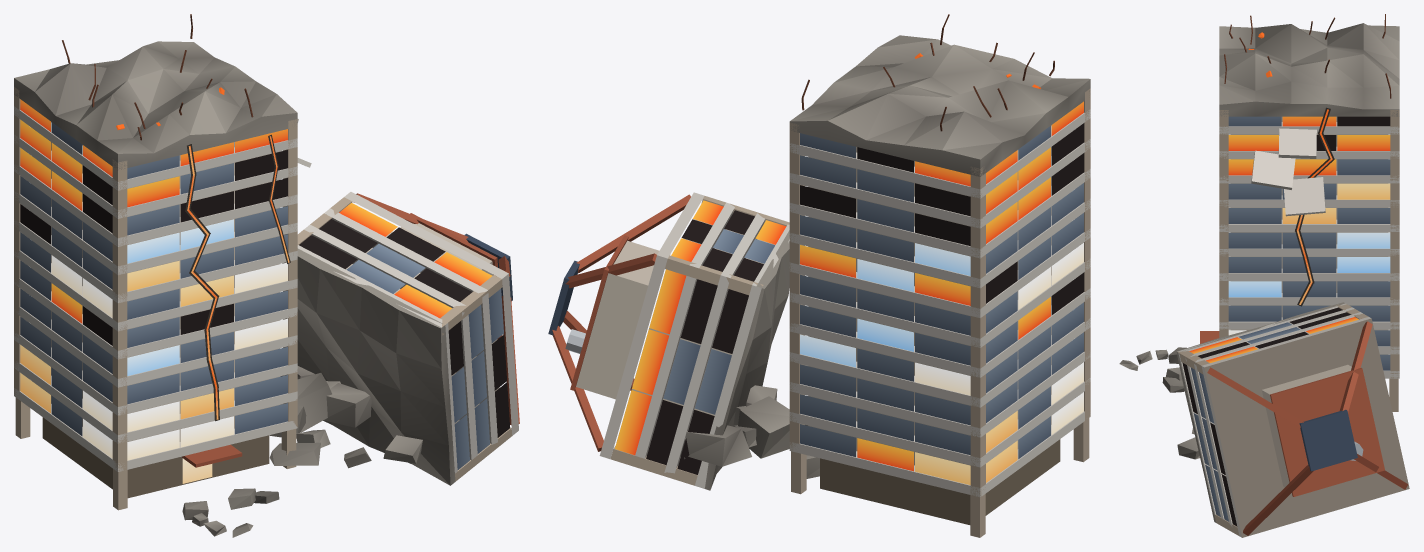
Rendered from bld_apt_C_collapsed.meshopt.glb.
3 renders of one model, left to right at view 1: azimuth 30°, elevation 25°; view 2: azimuth 150°, elevation 25°; view 3: azimuth 270°, elevation 25°, orthographic. The views are drawn at different scales.
Visible parts, largest first — view 1: bld_apt_C_collapsed; view 2: bld_apt_C_collapsed; view 3: bld_apt_C_collapsed.
Part boxes in pixels (box(x1,y1,x2,y2)): bld_apt_C_collapsed: box(14, 14, 519, 537); bld_apt_C_collapsed: box(548, 14, 1090, 537); bld_apt_C_collapsed: box(1119, 14, 1409, 537).
Bounding box in the file's own units: 48.35 × 45.78 × 31.27.
